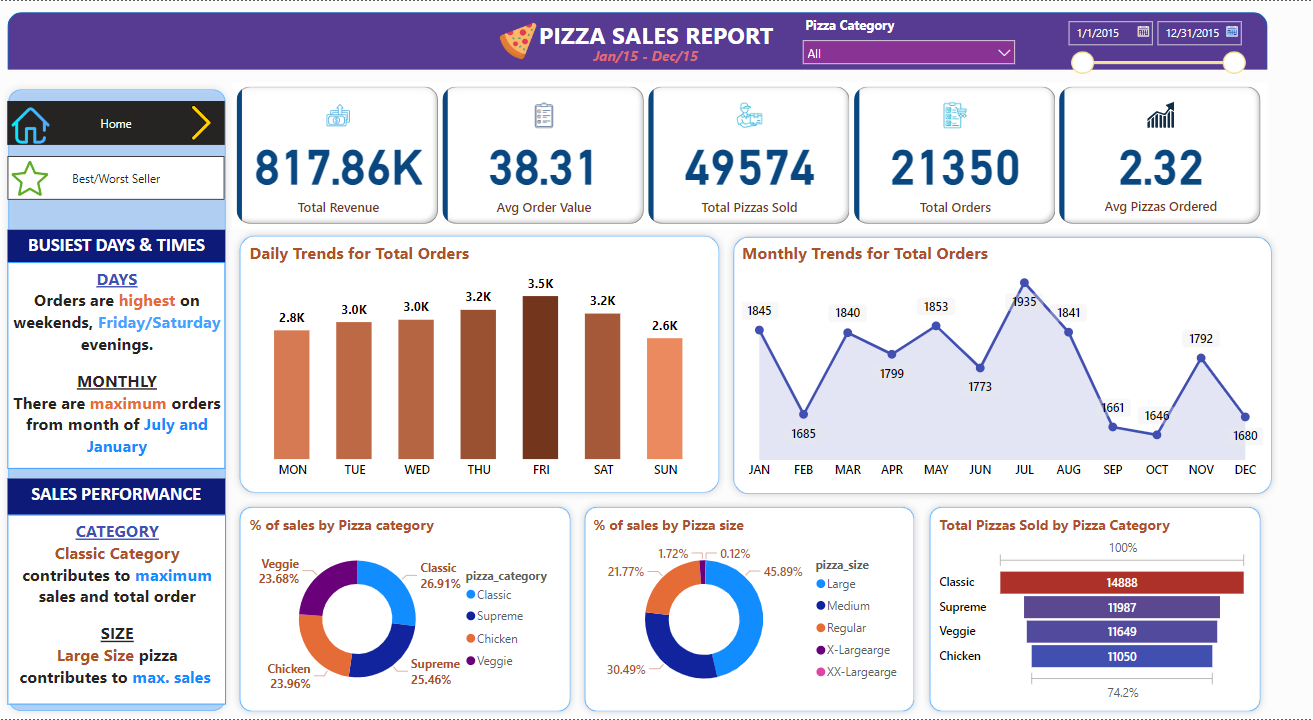

The page's visual inventory and layout, read from the dashboard file:
{"tool":"powerbi","page":{"name":"Home","canvas":[1500,820],"ordinal":0},"visuals":[{"type":"shape","box":[1.1,93.3,264.4,726.7],"z":0},{"type":"cardVisual","fields":{"Data":["pizza_sales.Total Revenue","pizza_sales.Avg Order Value","pizza_sales.Total Pizzas Sold","pizza_sales.Total Orders","pizza_sales.Avg Pizzas Ordered"]},"box":[265.7,92.9,1182.9,167.1],"z":1000},{"type":"shape","box":[8.6,12.9,1440,65.7],"z":2000},{"type":"textbox","box":[591.4,15.7,317.1,58.6],"z":3000},{"type":"textbox","box":[673.3,45.6,142.2,33.3],"z":4000},{"type":"image","box":[565.7,18.6,52.9,54.3],"z":5000},{"type":"shape","box":[265.7,260,564.3,310],"z":6000},{"type":"columnChart","title":"Daily Trends for Total Orders","fields":{"Category":["pizza_sales.Order Day"],"Y":["pizza_sales.Total Orders"]},"box":[280,274.3,535.7,281.4],"z":7000},{"type":"shape","box":[830,261.4,631.4,310],"z":8000},{"type":"areaChart","title":"Monthly Trends for Total Orders","fields":{"Category":["pizza_sales.Order Month"],"Y":["pizza_sales.Total Orders"]},"box":[842.9,274.3,605.7,281.4],"z":9000},{"type":"shape","box":[265.7,570,394.3,250],"z":10000},{"type":"shape","box":[660,570,392.9,250],"z":11000},{"type":"shape","box":[1054.3,570,394.3,250],"z":12000},{"type":"donutChart","title":"% of sales by Pizza category","fields":{"Category":["pizza_sales.pizza_category"],"Y":["pizza_sales.Total Revenue"]},"box":[280,587,366,217],"z":13000},{"type":"donutChart","title":"% of sales by Pizza size","fields":{"Y":["pizza_sales.Total Revenue"],"Category":["pizza_sales.pizza_size"]},"box":[673,587,366,218],"z":14000},{"type":"funnel","title":"Total Pizzas Sold by Pizza Category","fields":{"Category":["pizza_sales.pizza_category"],"Y":["pizza_sales.Total Pizzas Sold"]},"box":[1069,587,363,218],"z":15000},{"type":"textbox","box":[8.9,261.1,248.9,37.8],"z":16000},{"type":"textbox","box":[8.6,298.6,248.6,235.7],"z":17000},{"type":"textbox","box":[8.6,545.7,248.6,41.4],"z":18000},{"type":"textbox","box":[8.5,587.3,249.3,216.9],"z":19000},{"type":"slicer","fields":{"Values":["pizza_sales.pizza_category"]},"box":[907.1,12.9,262.9,65.7],"z":20000},{"type":"slicer","fields":{"Values":["pizza_sales.order_date"]},"box":[1208.6,12.9,222.9,80],"z":21000},{"type":"pageNavigator","box":[8.6,177.1,248.6,50],"z":22000},{"type":"pageNavigator","box":[8.6,114.3,248.6,50],"z":23000},{"type":"image","box":[202.9,114.3,54.3,50],"z":24000},{"type":"image","box":[8.6,114.3,52.9,55.7],"z":25000},{"type":"image","box":[8.6,177.1,51.4,51.4],"z":26000}]}

Visuals, with their boxes in screenshot pixels (x1, y1, x2, y2), scaled from the page's 1500x820 canvas onto the 1313x720 screenshot:
shape: [1,82,232,719]
cardVisual - pizza_sales.Total Revenue x pizza_sales.Avg Order Value: [233,82,1268,228]
shape: [8,11,1268,69]
textbox: [518,14,795,65]
textbox: [589,40,714,69]
image: [495,16,541,64]
shape: [233,228,727,500]
"Daily Trends for Total Orders" columnChart: [245,241,714,488]
shape: [727,230,1279,502]
"Monthly Trends for Total Orders" areaChart: [738,241,1268,488]
shape: [233,500,578,719]
shape: [578,500,922,719]
shape: [923,500,1268,719]
"% of sales by Pizza category" donutChart: [245,515,565,706]
"% of sales by Pizza size" donutChart: [589,515,909,707]
"Total Pizzas Sold by Pizza Category" funnel: [936,515,1253,707]
textbox: [8,229,226,262]
textbox: [8,262,225,469]
textbox: [8,479,225,516]
textbox: [7,516,226,706]
slicer - pizza_sales.pizza_category: [794,11,1024,69]
slicer - pizza_sales.order_date: [1058,11,1253,82]
pageNavigator: [8,156,225,199]
pageNavigator: [8,100,225,144]
image: [178,100,225,144]
image: [8,100,54,149]
image: [8,156,53,201]
